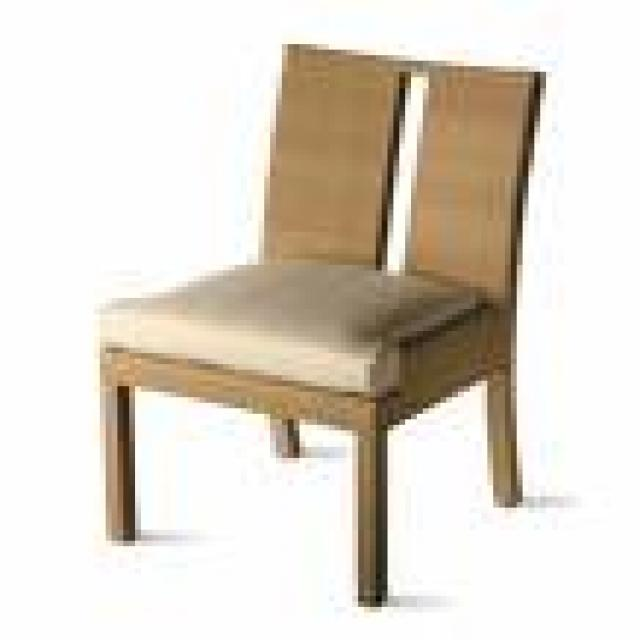Chair: (62, 50, 572, 625)
